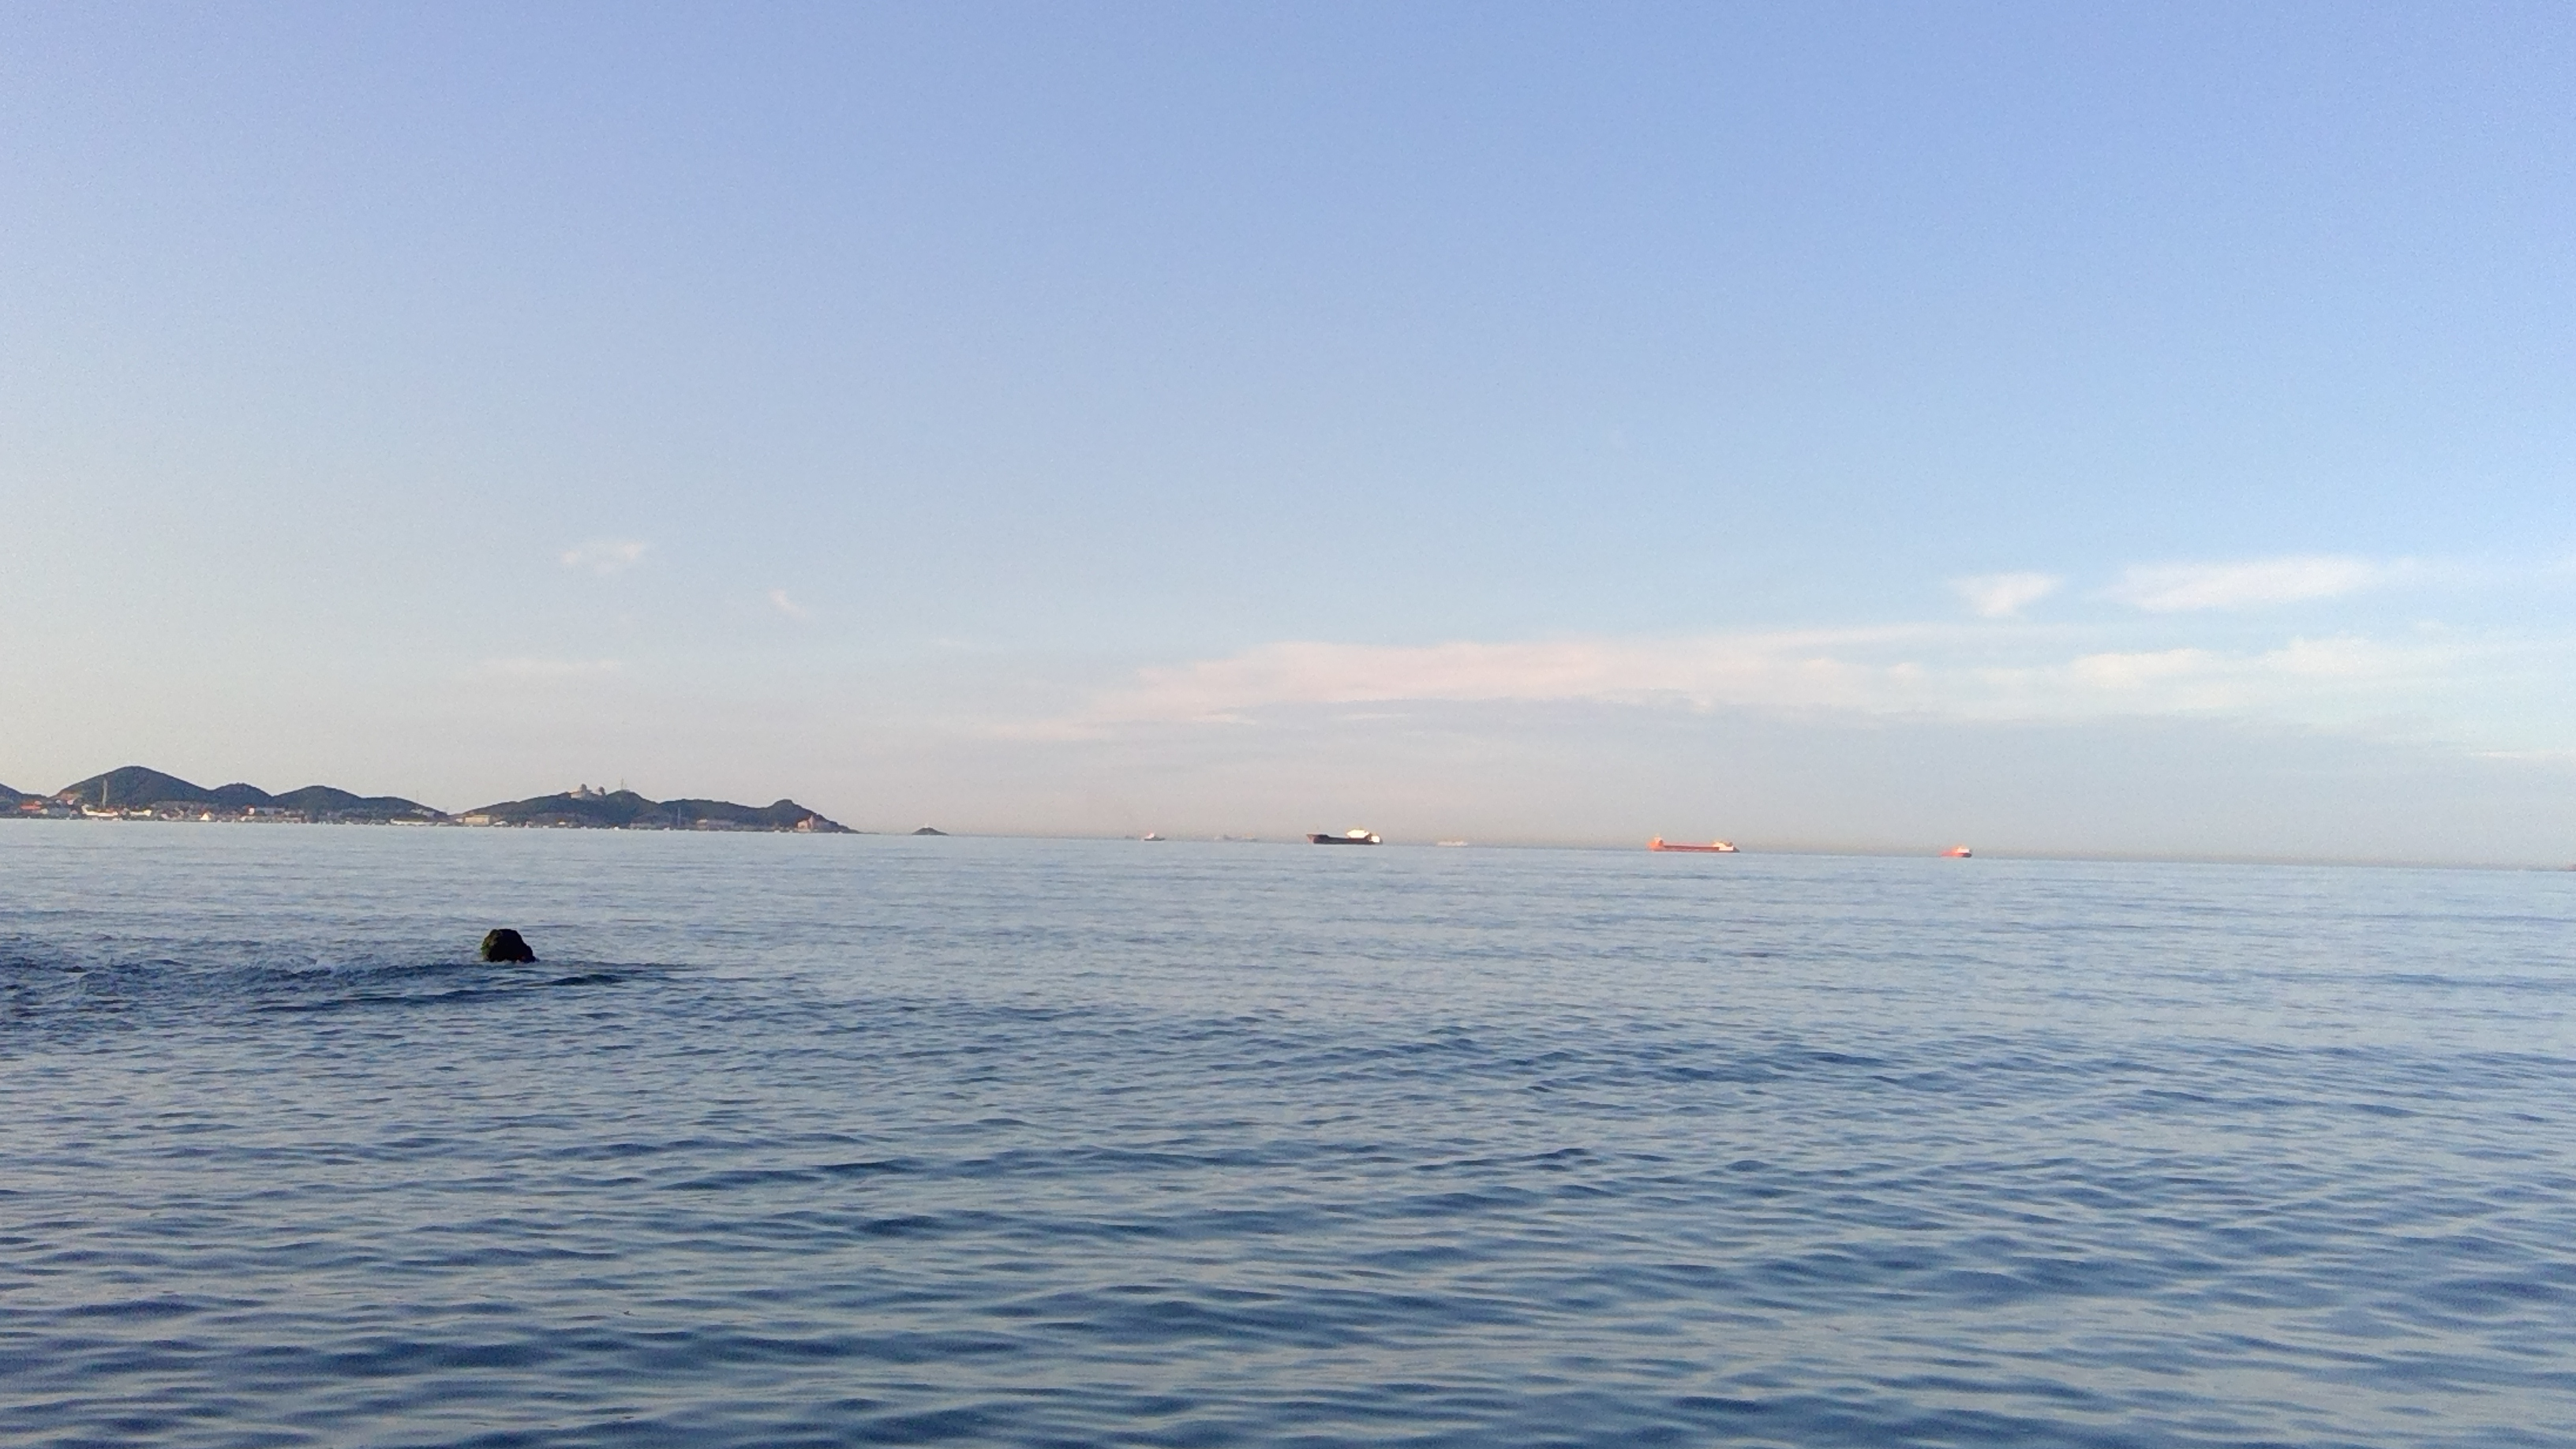platform: (1642, 826, 1748, 872)
rock: (462, 764, 860, 842), (225, 775, 458, 840), (14, 745, 211, 819), (464, 908, 540, 978), (902, 817, 964, 846)
rubbish: (1937, 828, 1976, 858)
ship: (1295, 814, 1391, 853)
